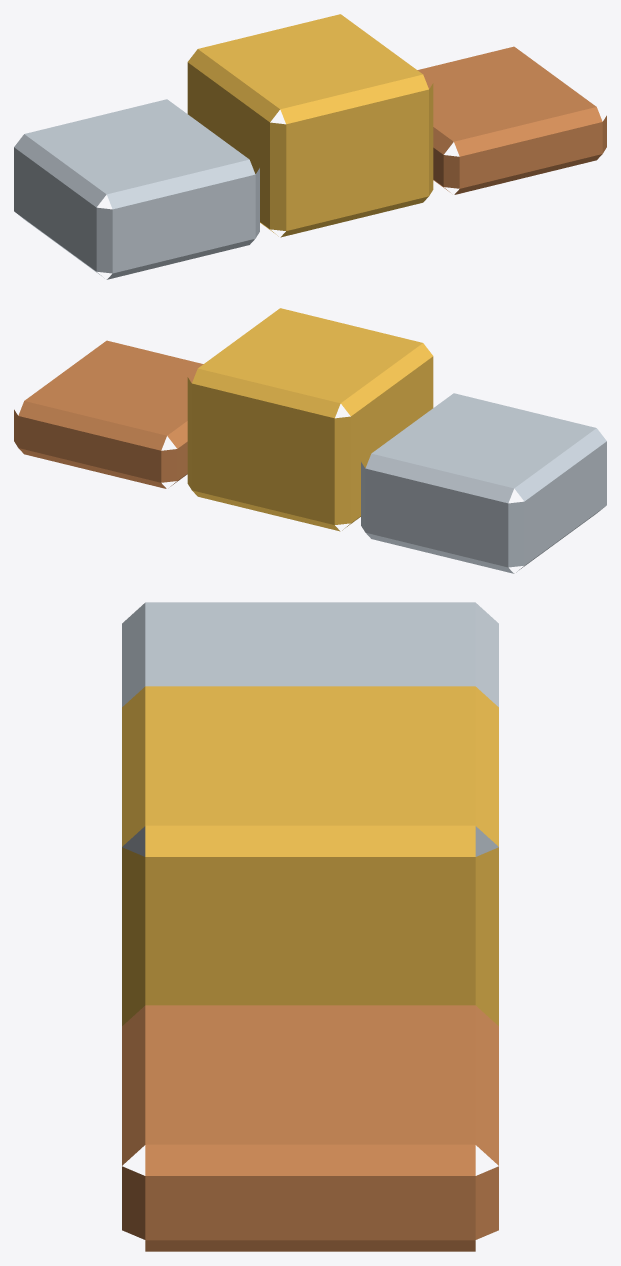
Rendered from podium.glb.
3 views of the same model, one above another, from view 1: azimuth 30°, elevation 25°; view 2: azimuth 150°, elevation 25°; view 3: azimuth 270°, elevation 25° (orthographic). The views are drawn at different scales.
Visible parts, largest first — view 1: podium; view 2: podium; view 3: podium.
Boxes of the visible parts, x1=… form: podium: x1=14, y1=14, x2=606, y2=279; podium: x1=14, y1=308, x2=606, y2=573; podium: x1=122, y1=602, x2=498, y2=1251.
Size of the model in its own units: 5 by 1.2 by 1.6.
